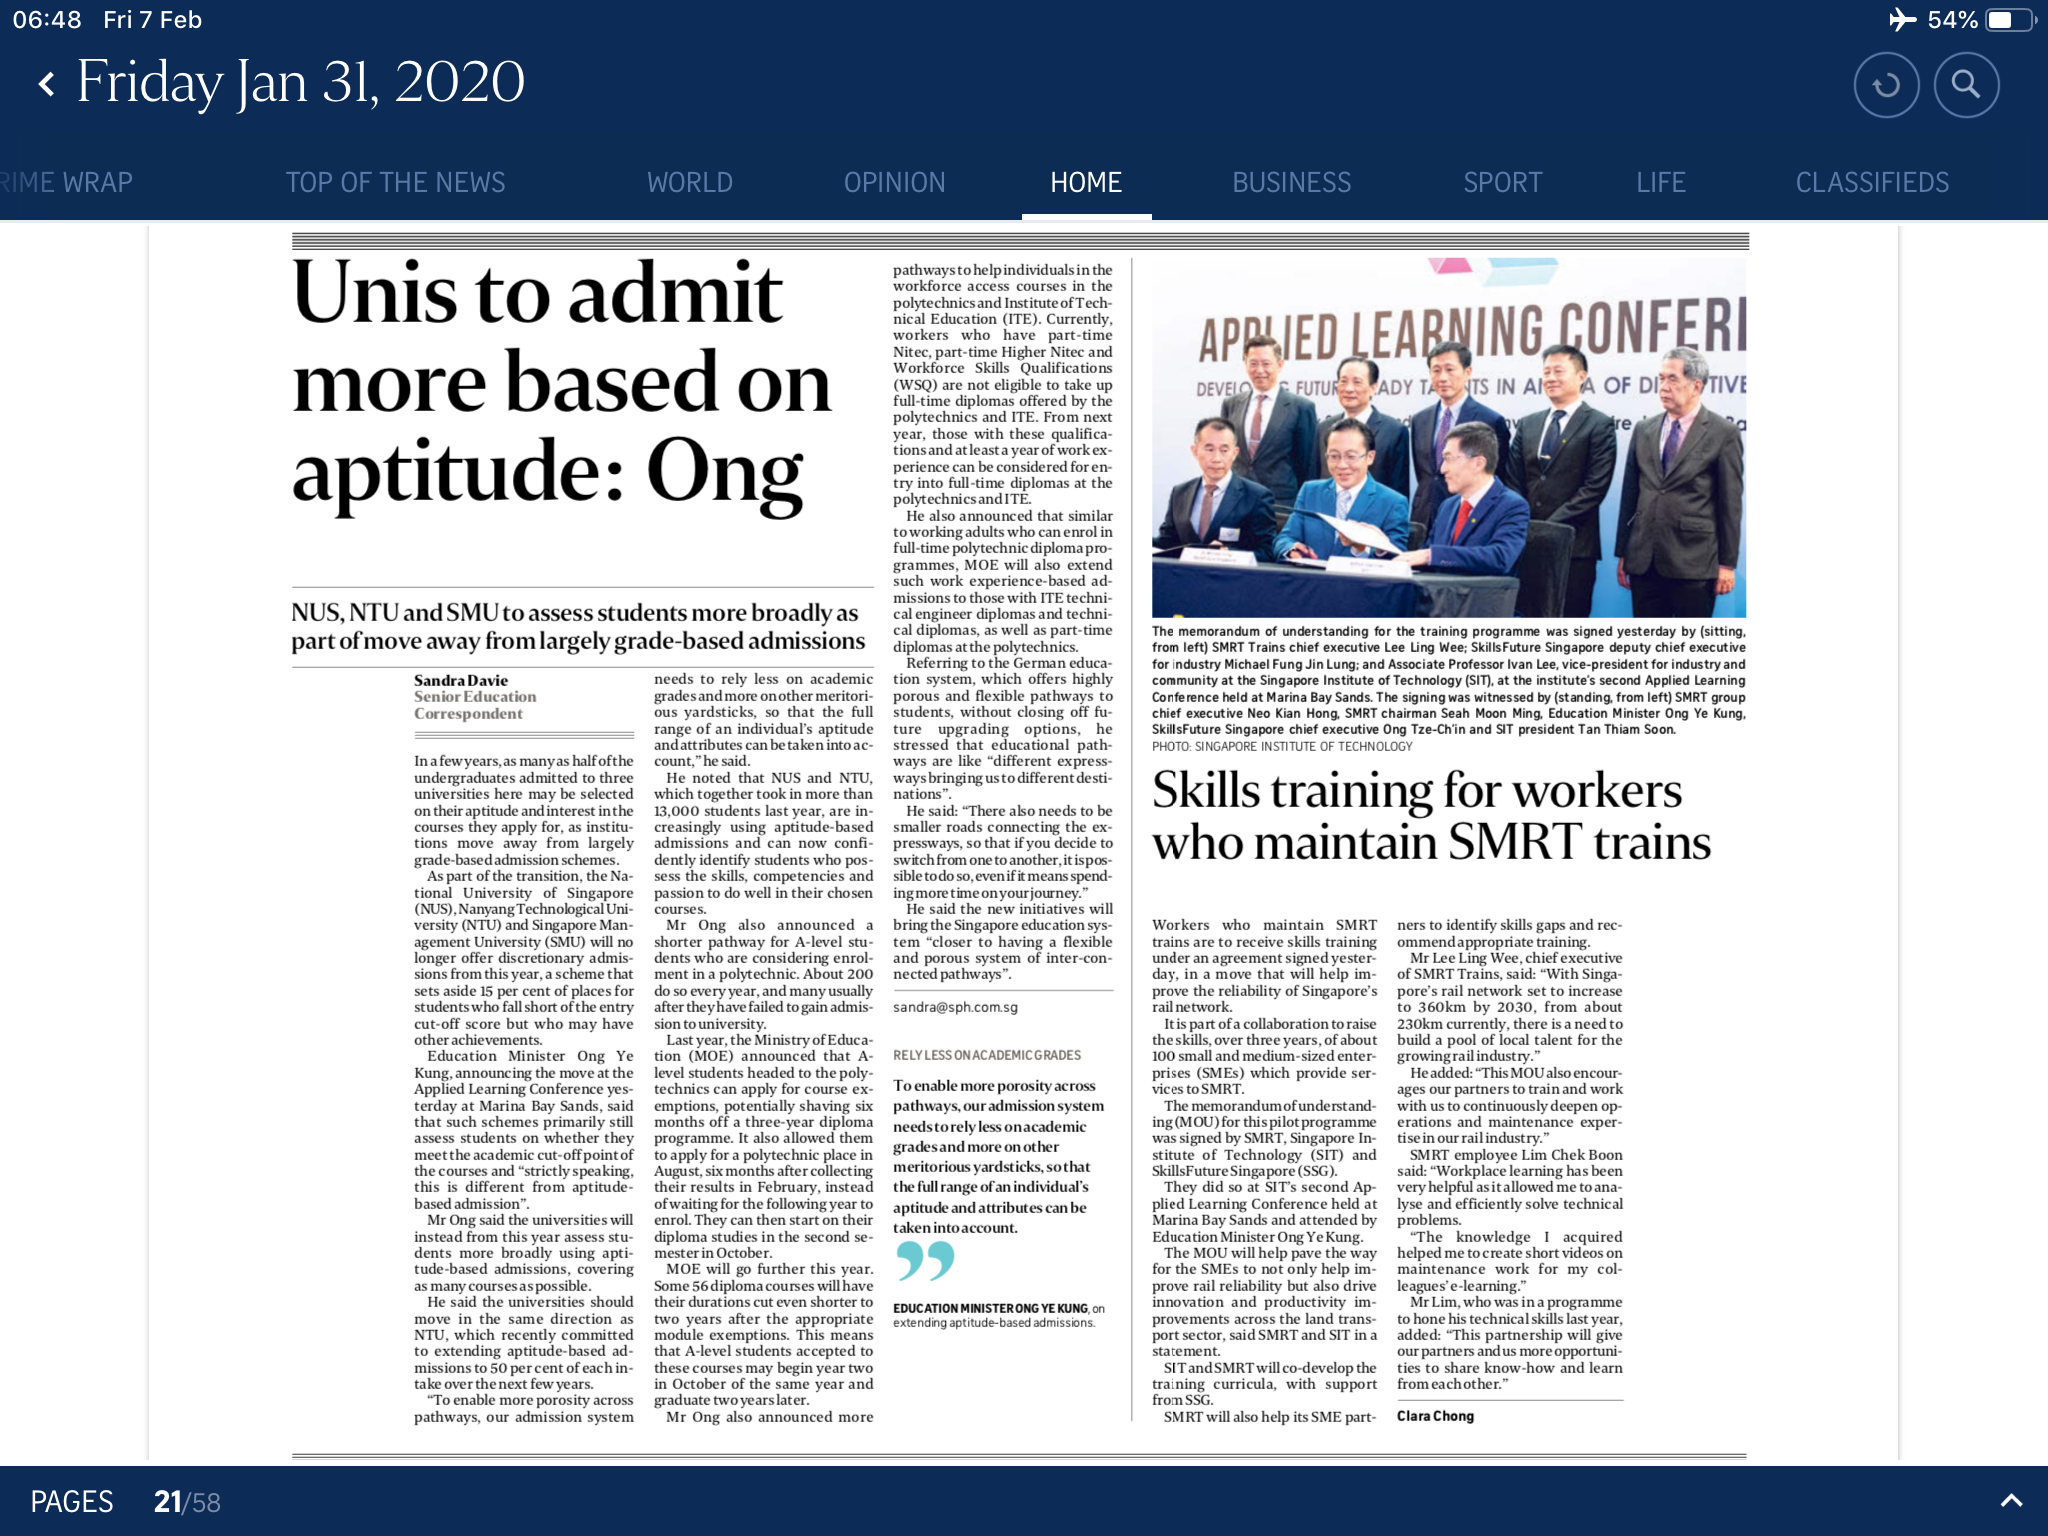Byline: (410, 671, 540, 716), (1397, 1409, 1476, 1425)
Headline: (293, 253, 830, 523), (1153, 765, 1714, 865)
Illustration: (1150, 623, 1750, 753)
Image: (1151, 257, 1745, 618)
Text: (653, 671, 876, 1433), (892, 263, 1118, 984), (411, 755, 639, 1430), (1150, 916, 1376, 1428), (1397, 920, 1627, 1388)
